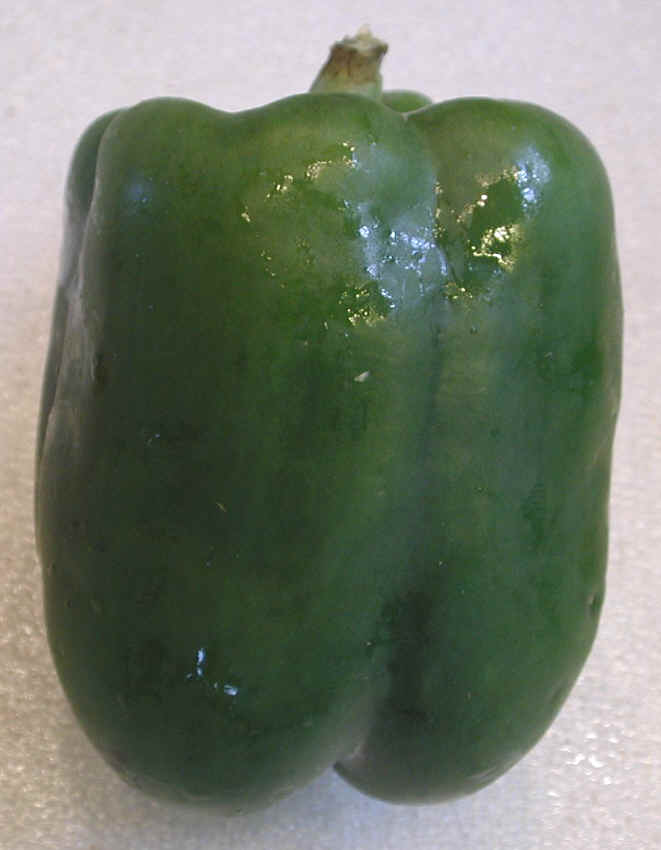capsicum: (29, 23, 631, 822)
